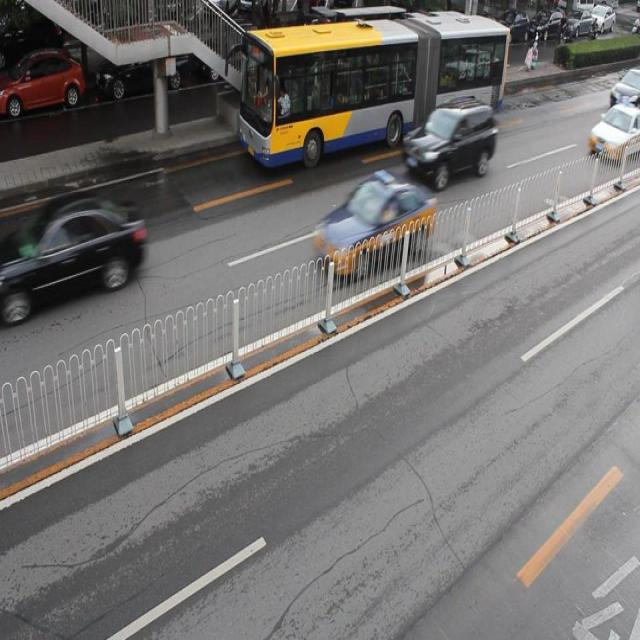car: (9, 190, 144, 312), (316, 172, 432, 275), (1, 48, 87, 114), (98, 35, 190, 95), (199, 18, 266, 80), (280, 19, 347, 71), (587, 102, 640, 162), (607, 68, 640, 110)
truck: (405, 95, 495, 186)
van: (240, 14, 509, 164)
